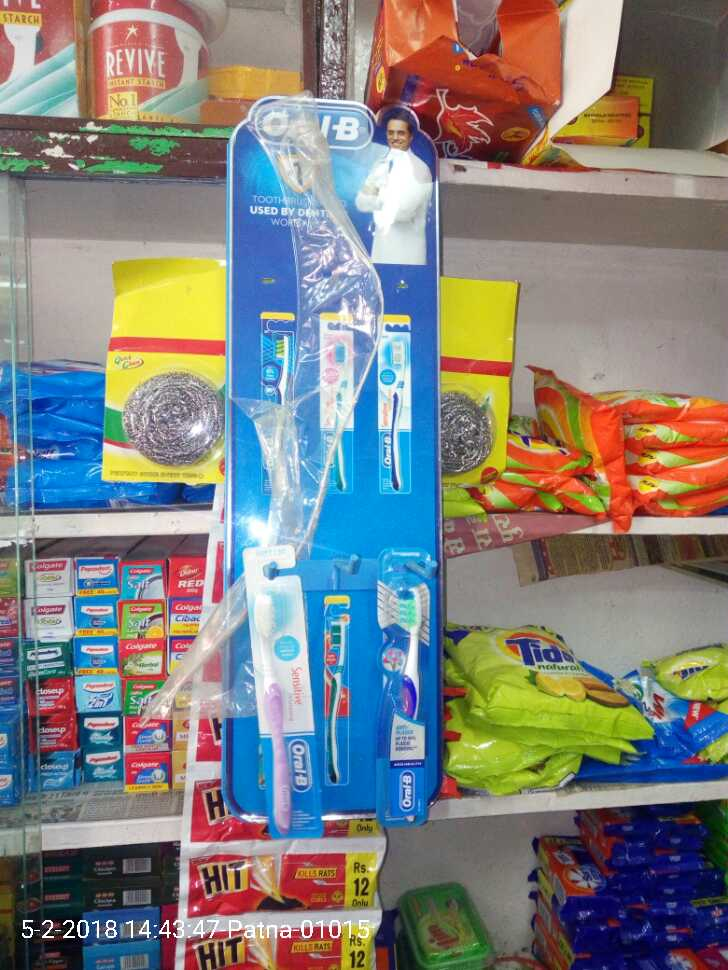home: (447, 622, 648, 807)
pharmacy: (235, 532, 324, 830), (375, 556, 441, 822)
